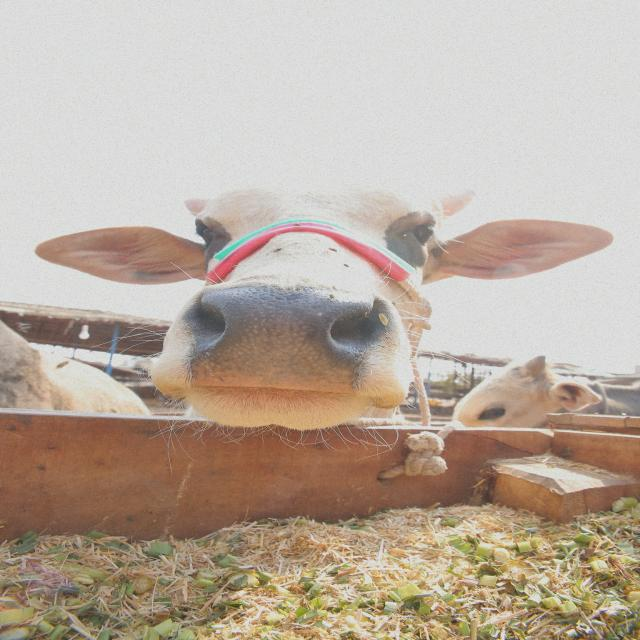muzzles: (172, 285, 390, 397)
